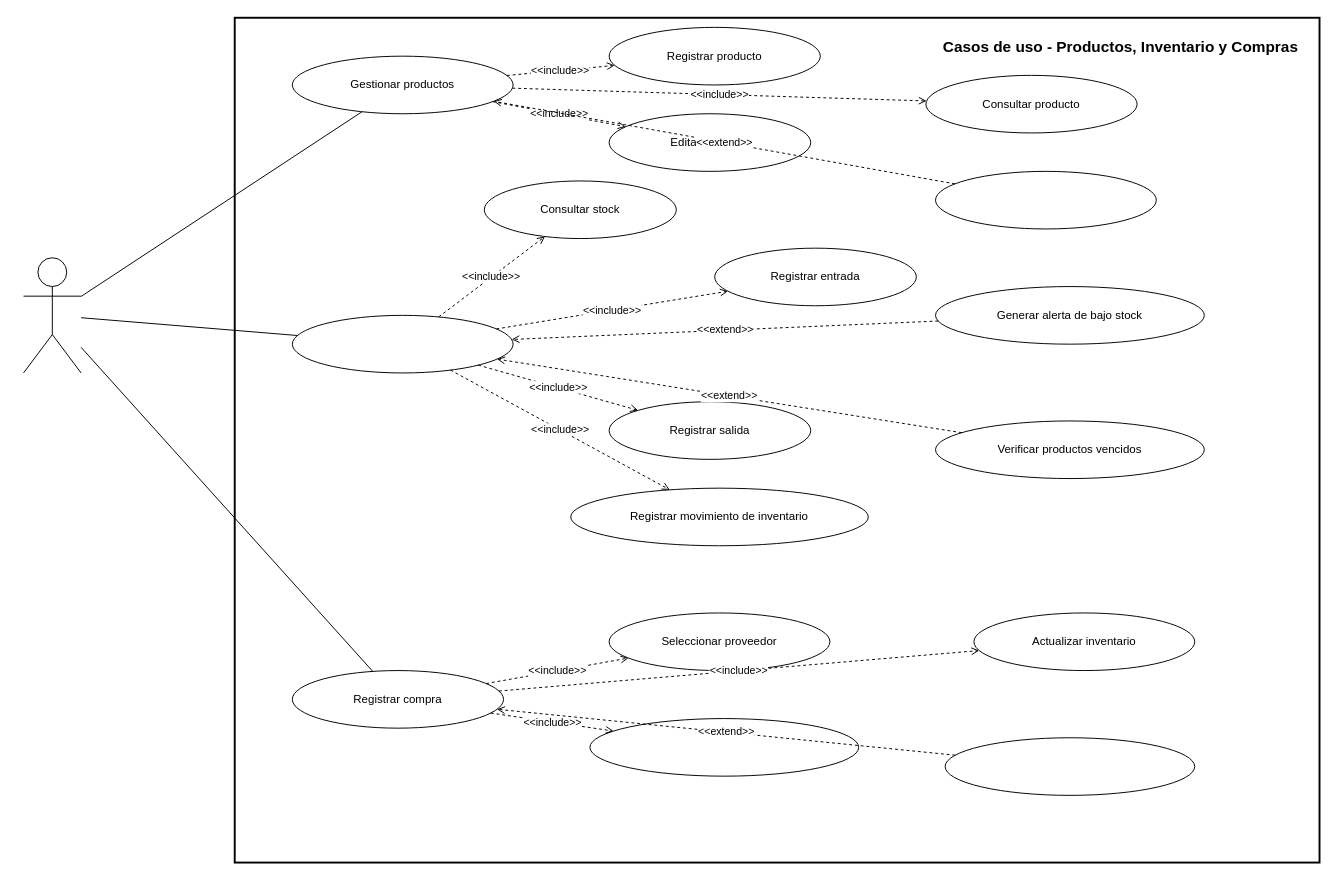
Image size: 1337x879. Some labels were removed from this diagram. Each missing label, with the centre of its shape:
Administrador: (x=52, y=315)
Desactivar producto: (x=1045, y=199)
Gestionar inventario: (x=402, y=343)
Registrar detalle de compra: (x=724, y=747)
Registrar nuevo proveedor: (x=1069, y=766)
